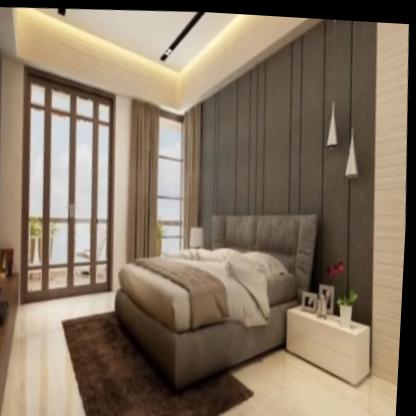Bed: (112, 189, 318, 383)
Lamp: (337, 16, 369, 182), (320, 15, 346, 151)
Nightstand: (283, 290, 381, 392)
